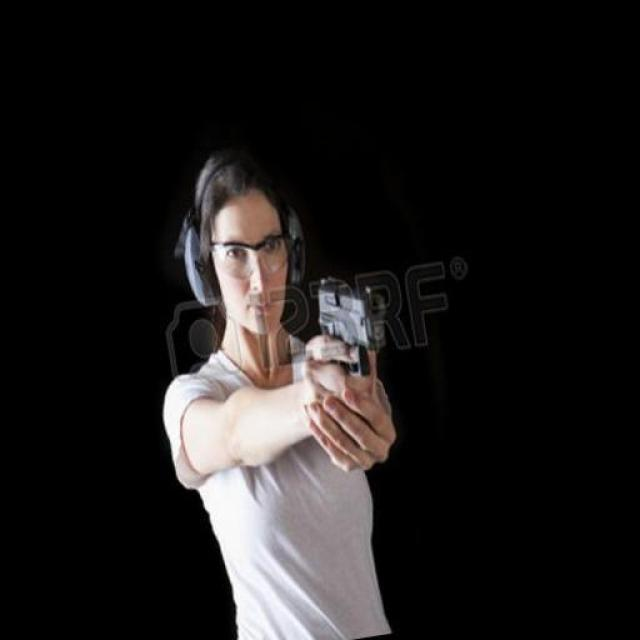gun: (307, 266, 393, 385)
